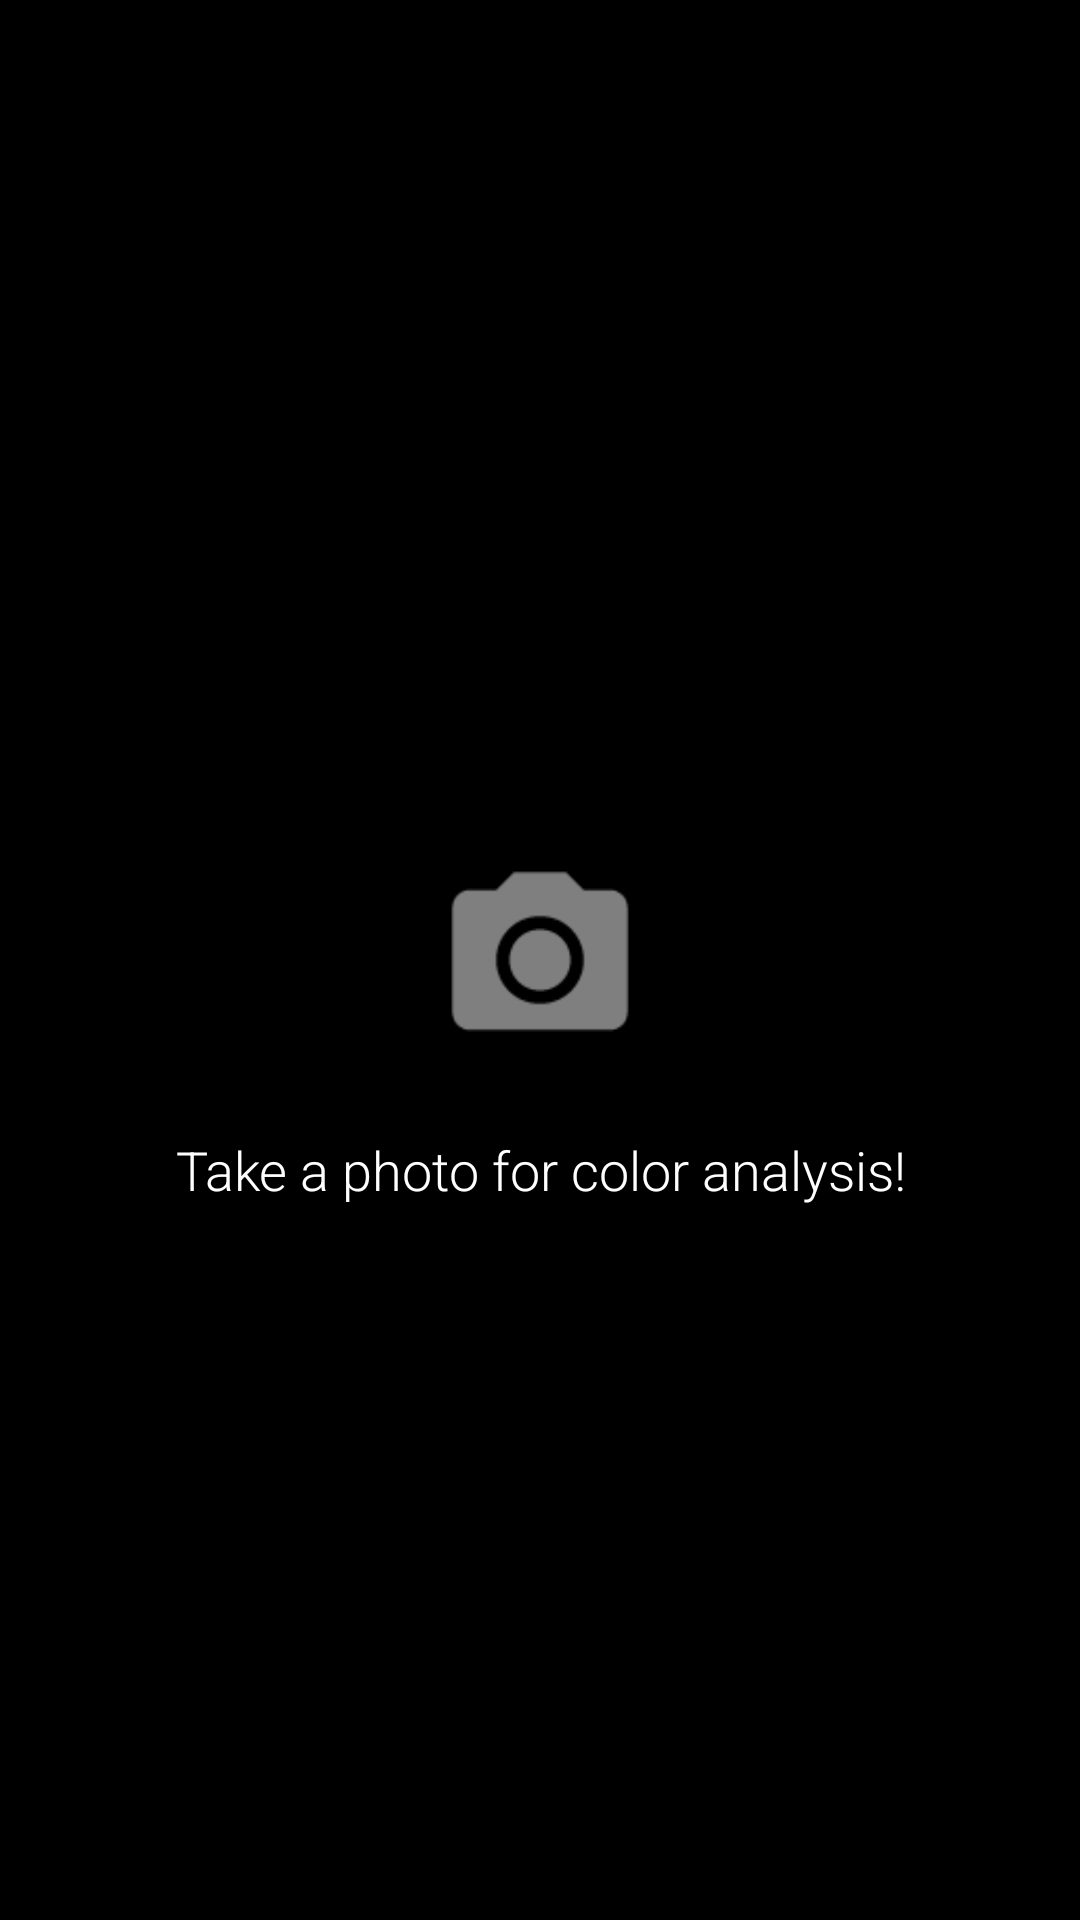

Icons on this 1080 x 1920 Android screen, each with the point to tap as [x,y]:
camera: [540,951]
